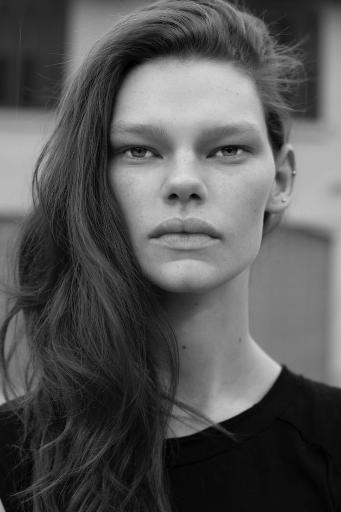left_eye: (207, 141, 255, 167)
left_lip_corner: (214, 230, 226, 248)
right_eye: (116, 144, 165, 170)
right_lip_corner: (148, 230, 162, 248)
